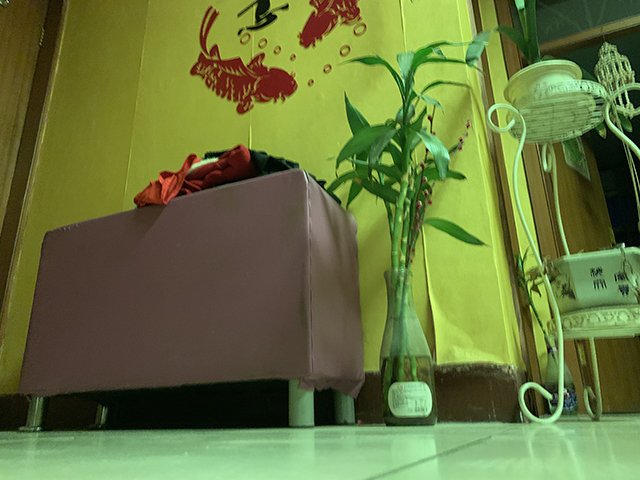stool: (13, 169, 365, 429)
